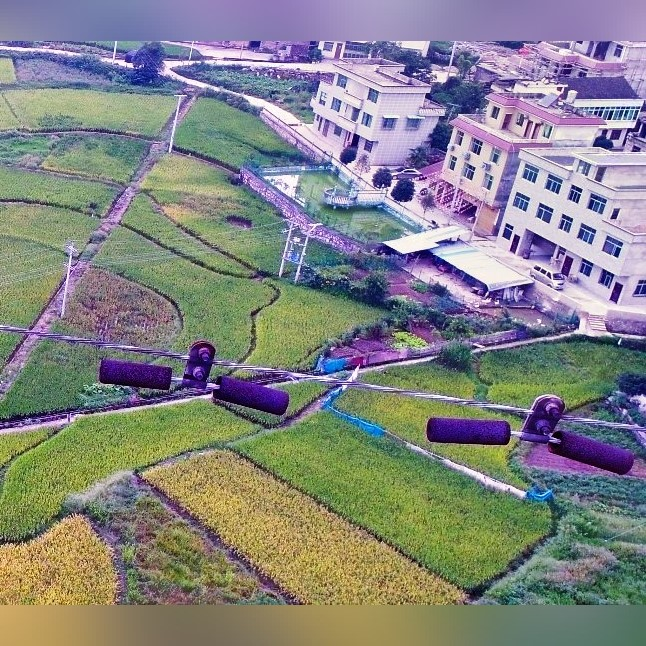Shockproof hammer: (424, 384, 639, 479), (92, 333, 293, 421)
